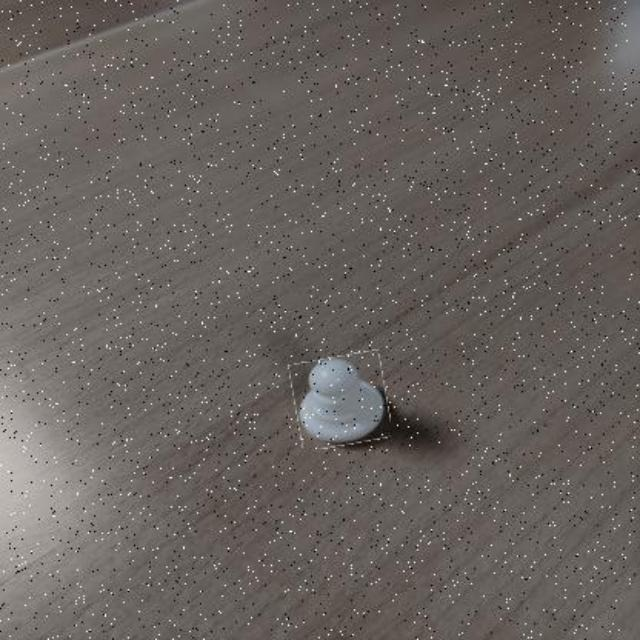white-pawn: (292, 354, 390, 448)
